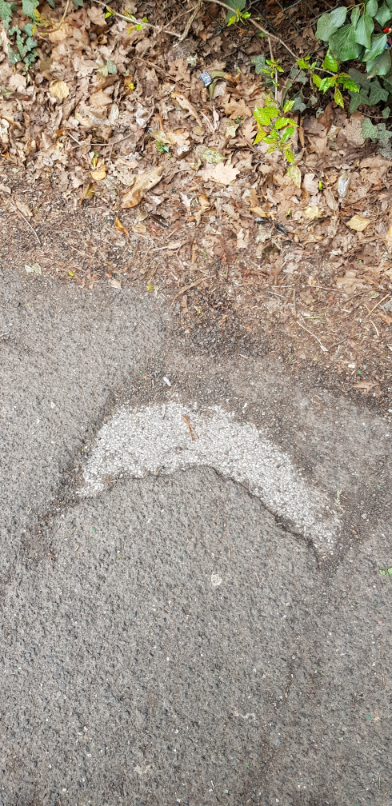pothole: (50, 373, 358, 573)
